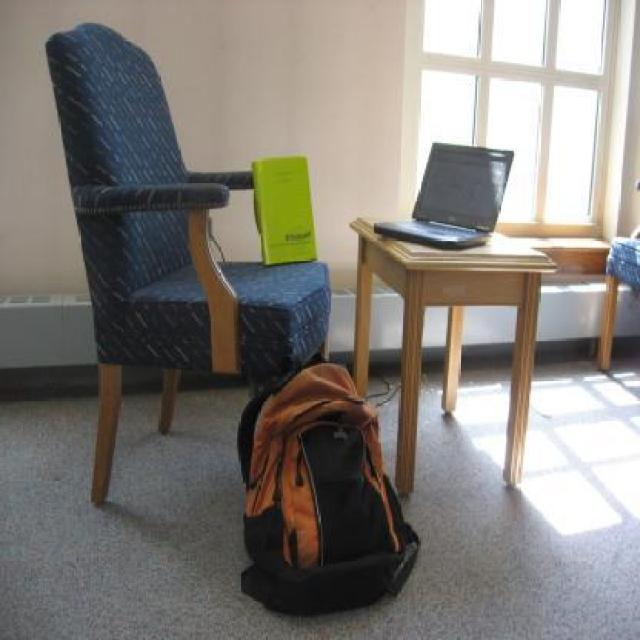backpack: (229, 350, 423, 622)
